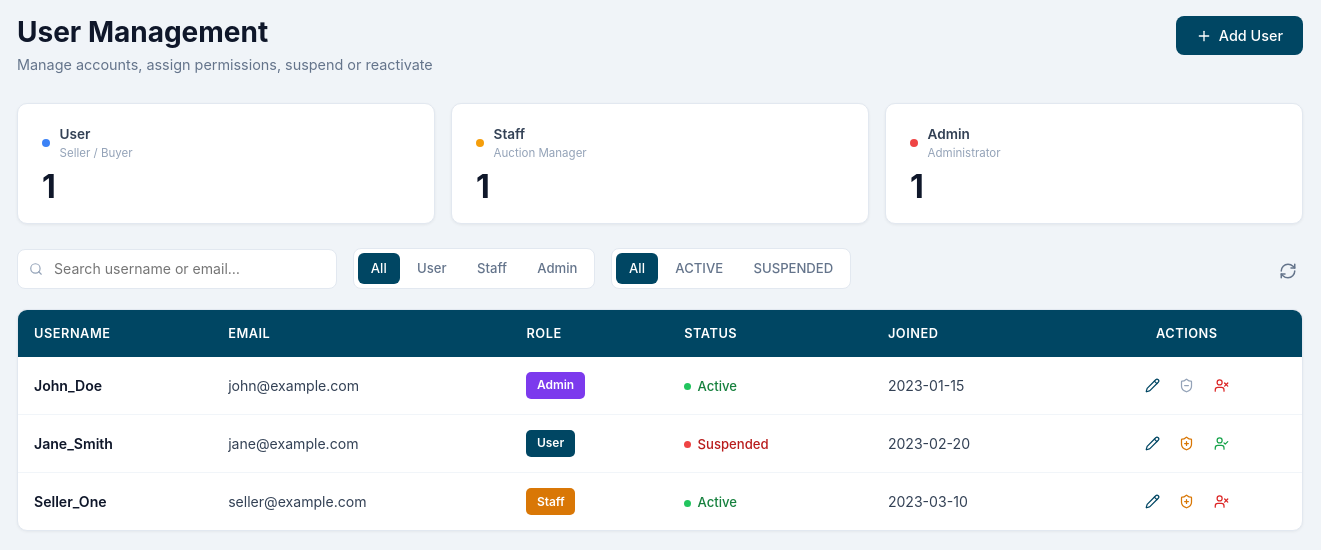
Test: UserManagement Component › filters users by role
Expected: the text "John_Doe" is shown, [34, 377, 102, 394]
Click "Admin" role filter
Click the button "Admin".
click(557, 269)  # box [524, 254, 590, 284]
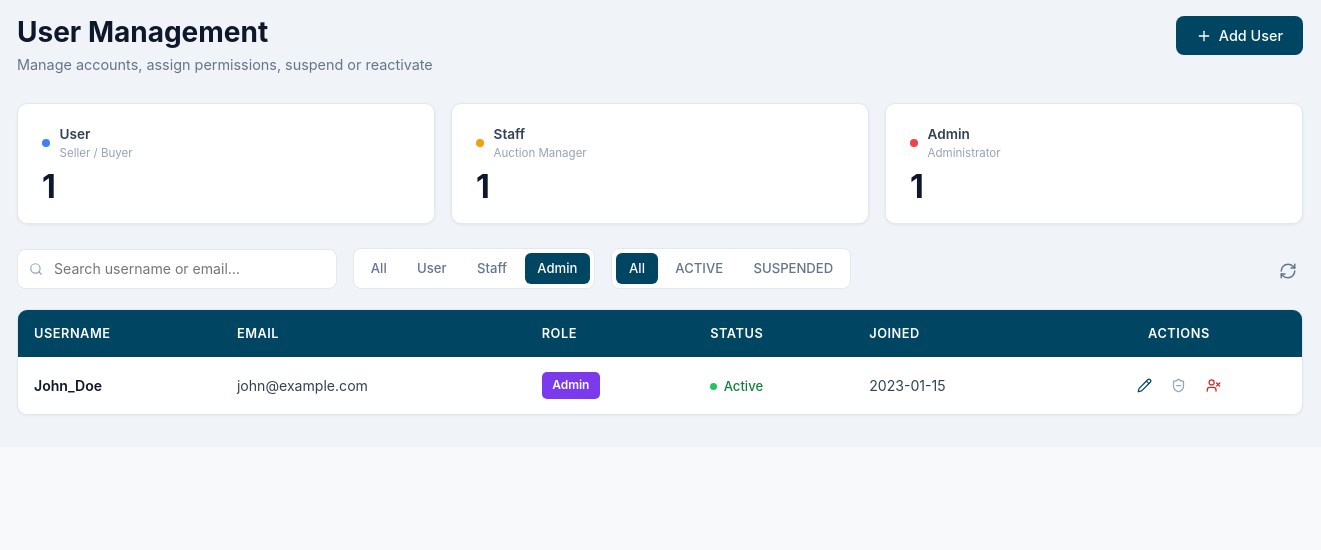
Expected: the text "John_Doe" is shown, [34, 377, 102, 394]
Result: the text "Jane_Smith" is gone
